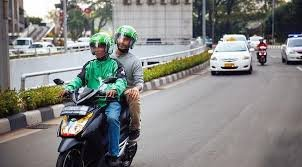mobil: (209, 41, 254, 76)
motor: (54, 95, 142, 163), (256, 43, 269, 67)
